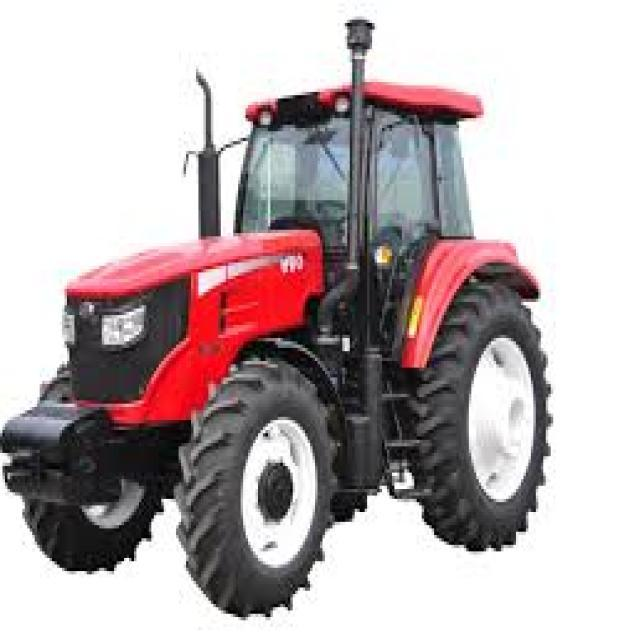Tratores - v5 YOLO V8L 2024-11-13: (1, 76, 552, 622)
